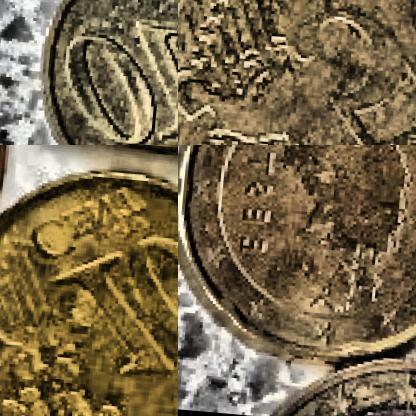coin: (178, 145, 415, 379), (0, 155, 177, 415), (178, 0, 415, 144), (31, 0, 177, 144)
